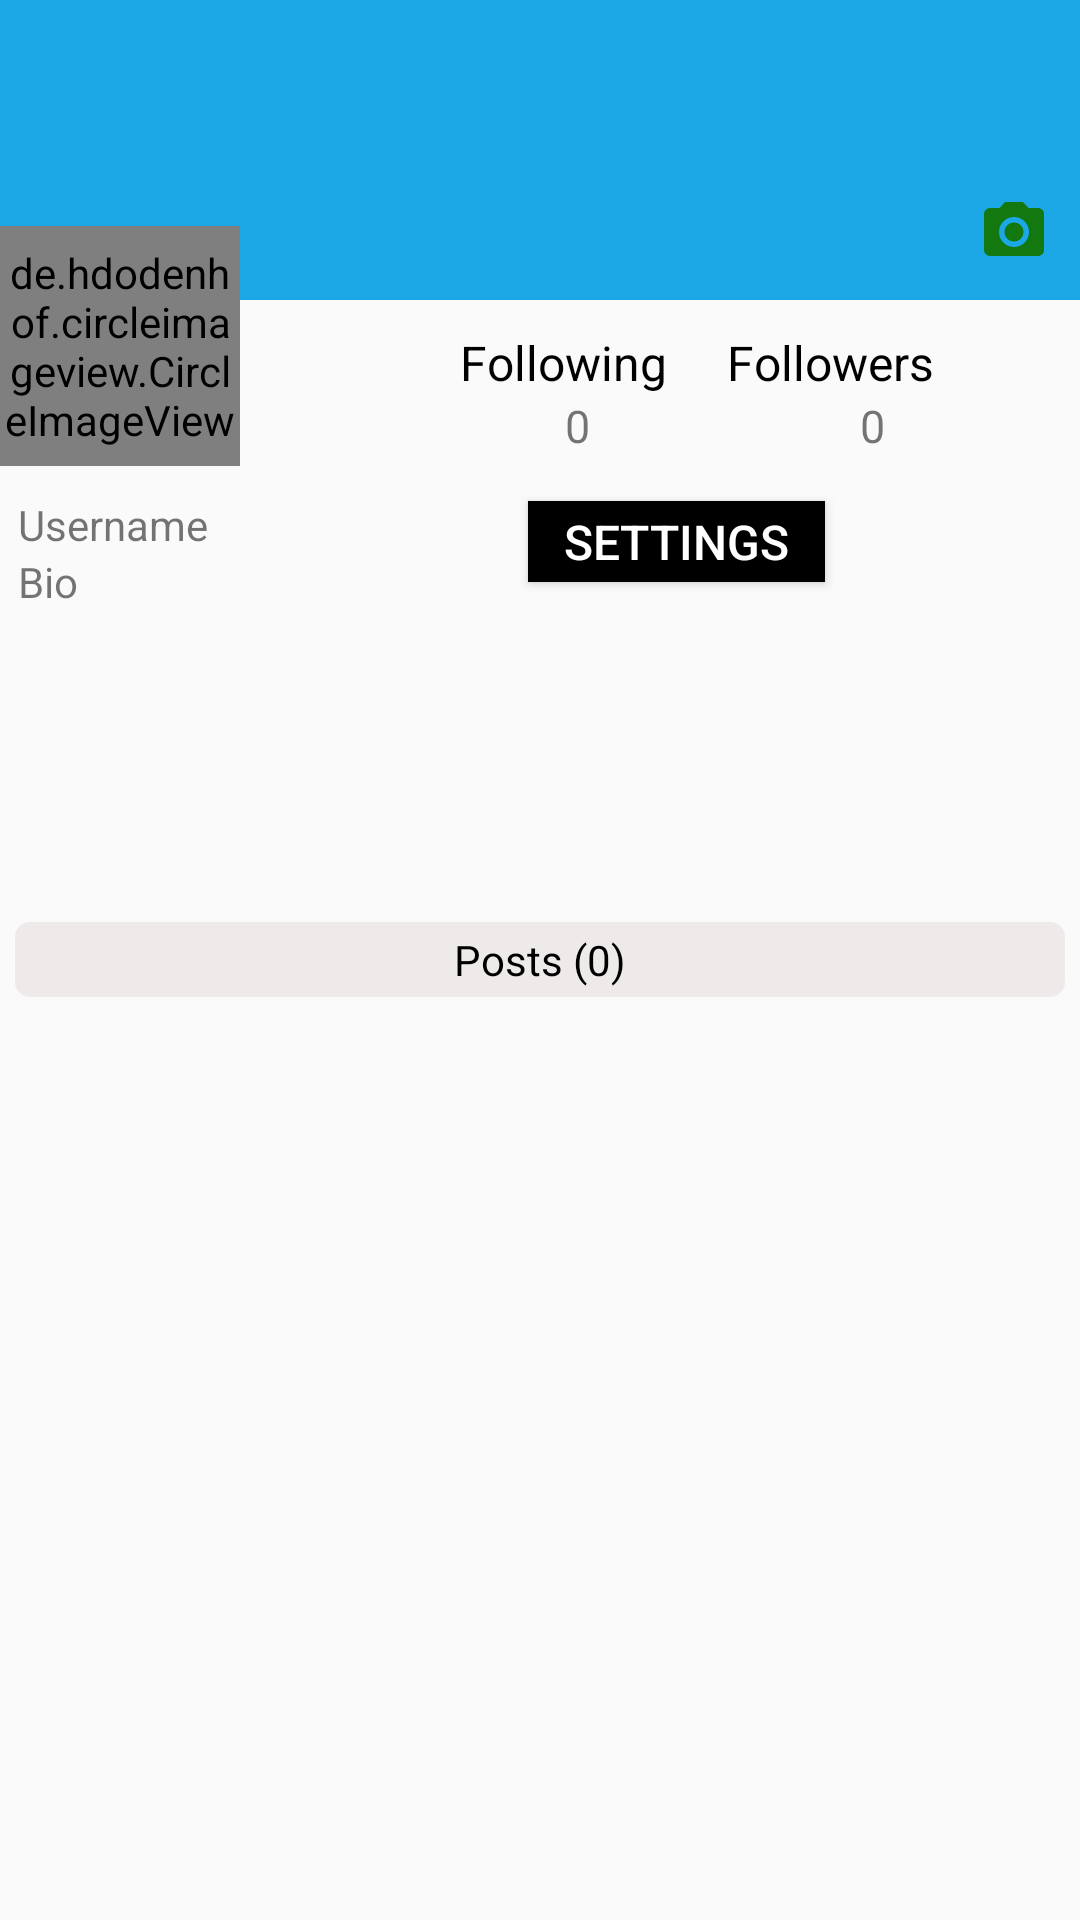

Where to tap for icons on this 1080*1920 app screen, as point (x, y):
camera: point (1014, 229)
